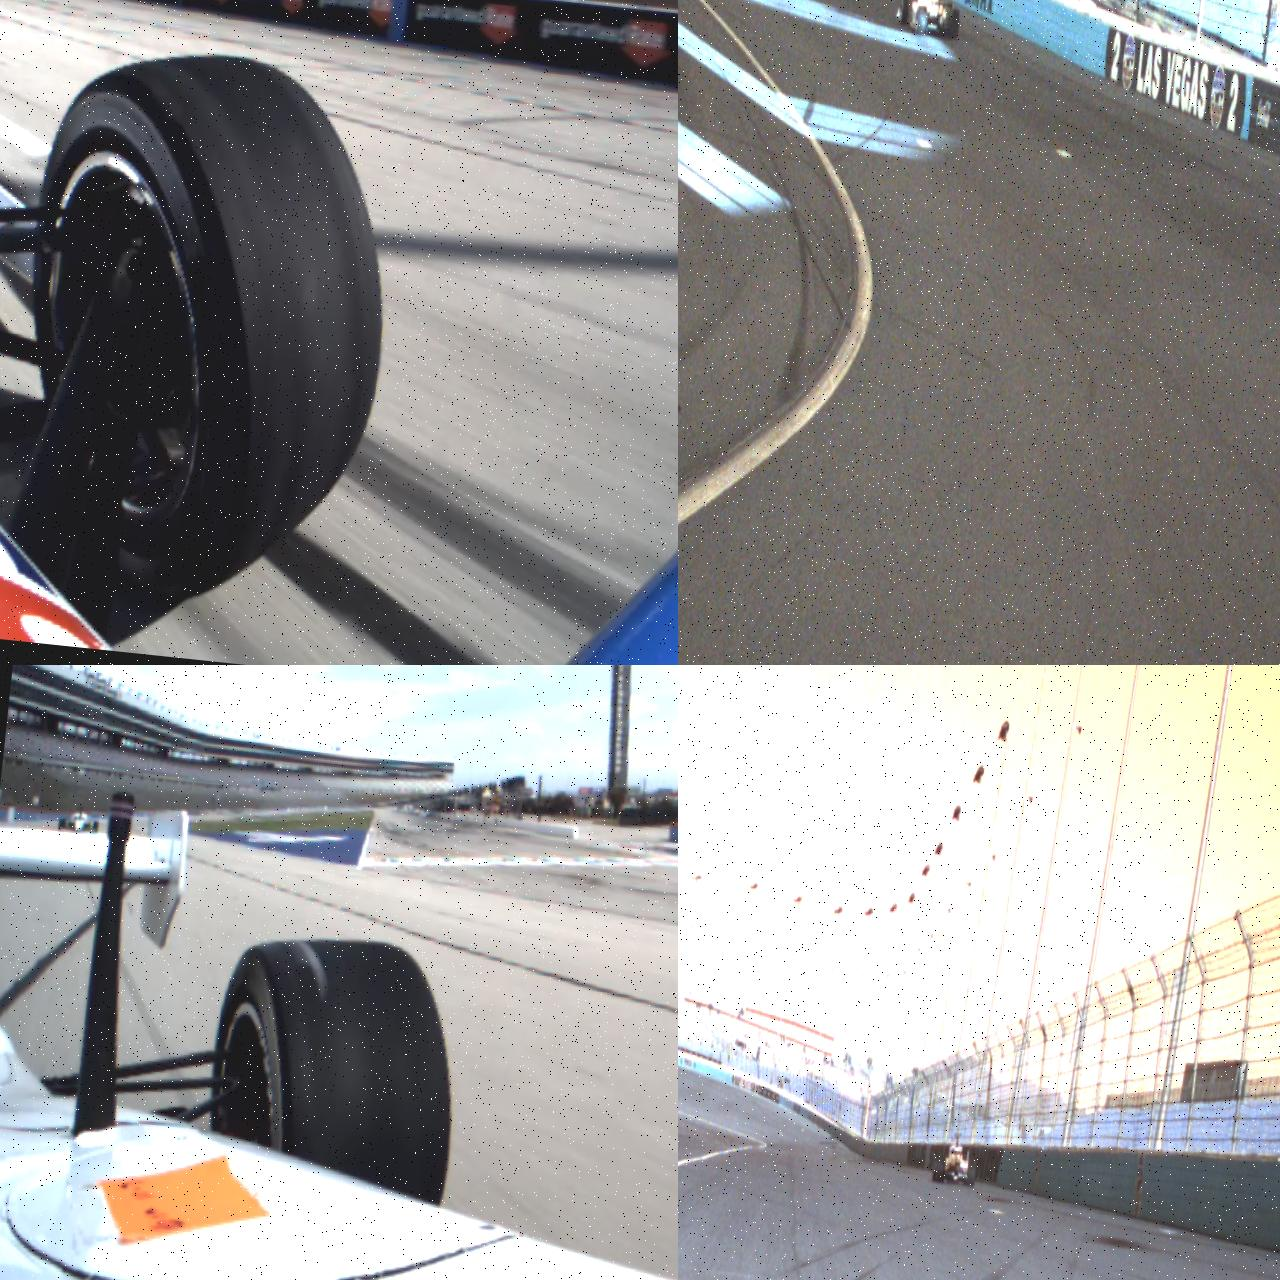AV: (894, 0, 964, 39), (932, 1132, 980, 1187), (57, 805, 101, 836)
Wheel: (4, 38, 410, 585), (199, 926, 471, 1210), (948, 8, 961, 39), (914, 7, 928, 34), (966, 1157, 978, 1187), (935, 1156, 946, 1184), (898, 0, 908, 26), (932, 1158, 939, 1182), (57, 818, 66, 831), (93, 821, 100, 833)
